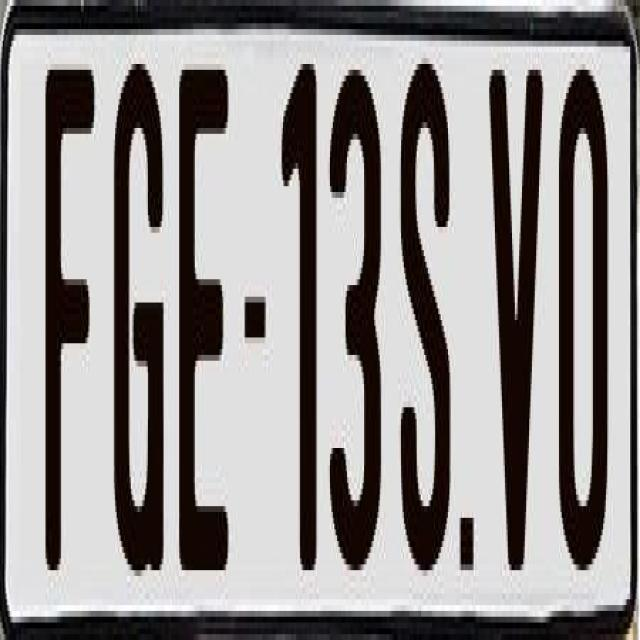0: (558, 52, 610, 588)
1: (282, 58, 324, 570)
3: (326, 52, 382, 558)
E: (178, 58, 232, 594)
F: (46, 52, 102, 558)
G: (110, 52, 163, 564)
S: (400, 46, 458, 576)
V: (490, 58, 548, 564)
